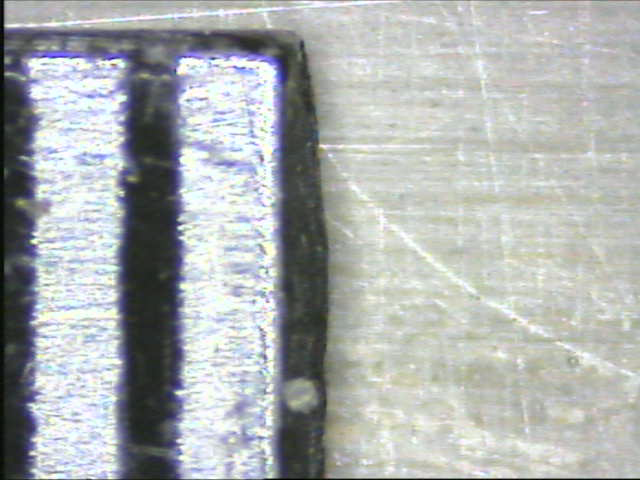edge: (272, 24, 334, 477)
line: (111, 46, 186, 478)
